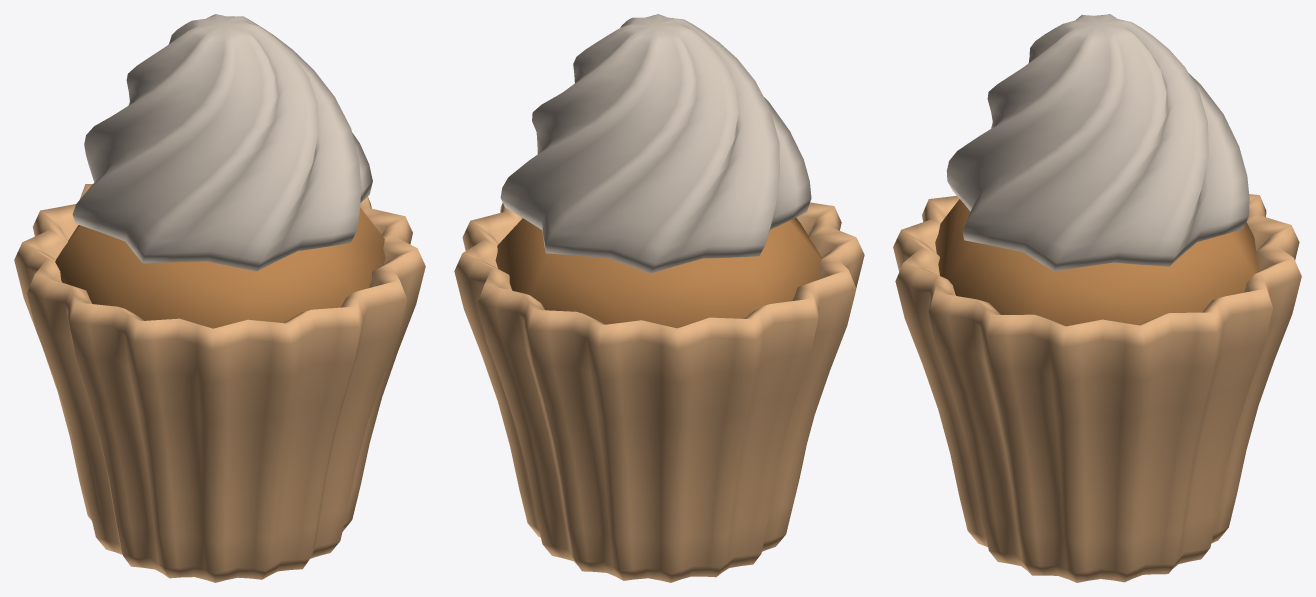
The model's file is SM_muffin_04.glb.
3 views of the same model, side by side, from view 1: azimuth 30°, elevation 25°; view 2: azimuth 150°, elevation 25°; view 3: azimuth 270°, elevation 25° (orthographic).
Visible parts, largest first — view 1: SM_muffin_04; view 2: SM_muffin_04; view 3: SM_muffin_04.
Boxes of the visible parts, box(x1,y1,x2,y2) form: SM_muffin_04: box(14, 14, 425, 582); SM_muffin_04: box(454, 14, 864, 582); SM_muffin_04: box(893, 14, 1301, 582).
Bounding box in the file's own units: 0.1342 × 0.1854 × 0.1342.
Materials: 1 (1 with a texture image).
